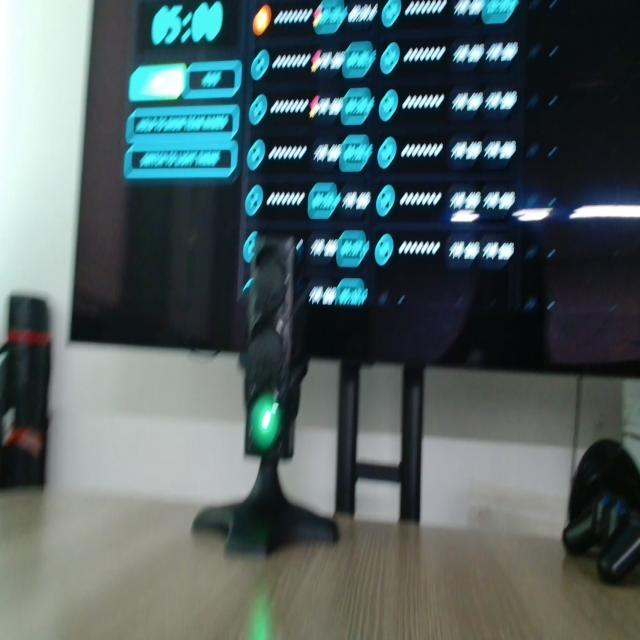green_light: (250, 395, 281, 452)
